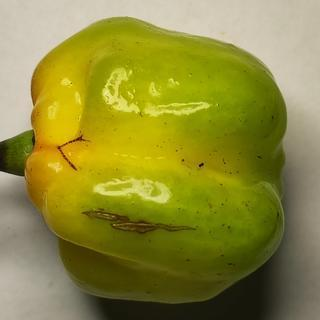Fly-bites: (195, 157, 209, 172), (253, 151, 267, 164), (177, 153, 189, 165), (226, 260, 235, 268), (226, 223, 233, 232), (219, 201, 225, 208), (277, 210, 281, 219), (185, 258, 192, 263), (270, 114, 275, 121), (177, 206, 182, 211), (219, 182, 224, 187), (213, 211, 217, 216)
striped: (77, 208, 201, 238), (52, 132, 95, 175)
